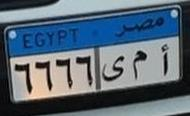6: (34, 58, 54, 94), (74, 54, 94, 89), (55, 55, 74, 91), (13, 61, 33, 95)
alif: (159, 43, 173, 78)
meem: (130, 49, 149, 82)
yaa: (101, 54, 127, 83)
